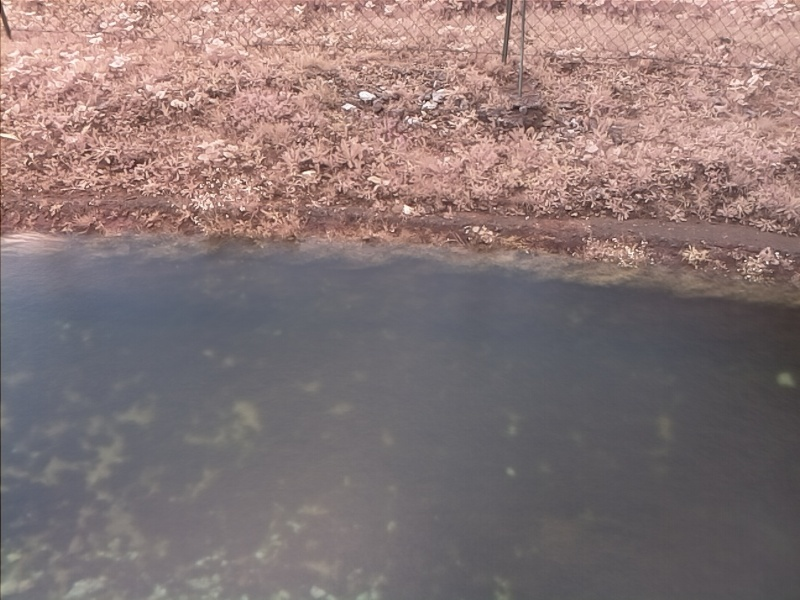Water: (1, 231, 799, 600)
